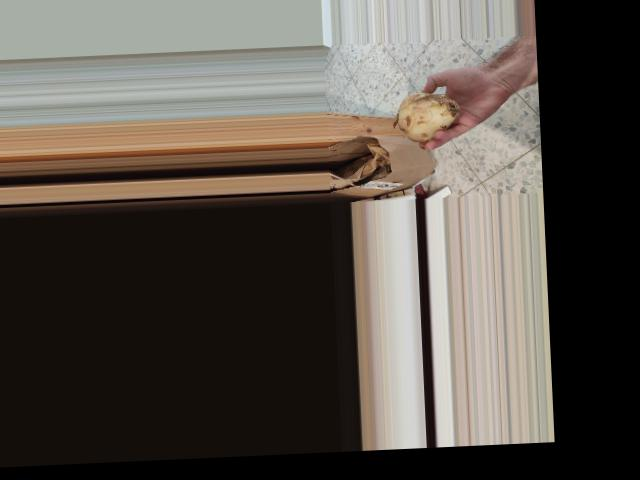onion: (392, 87, 463, 146)
